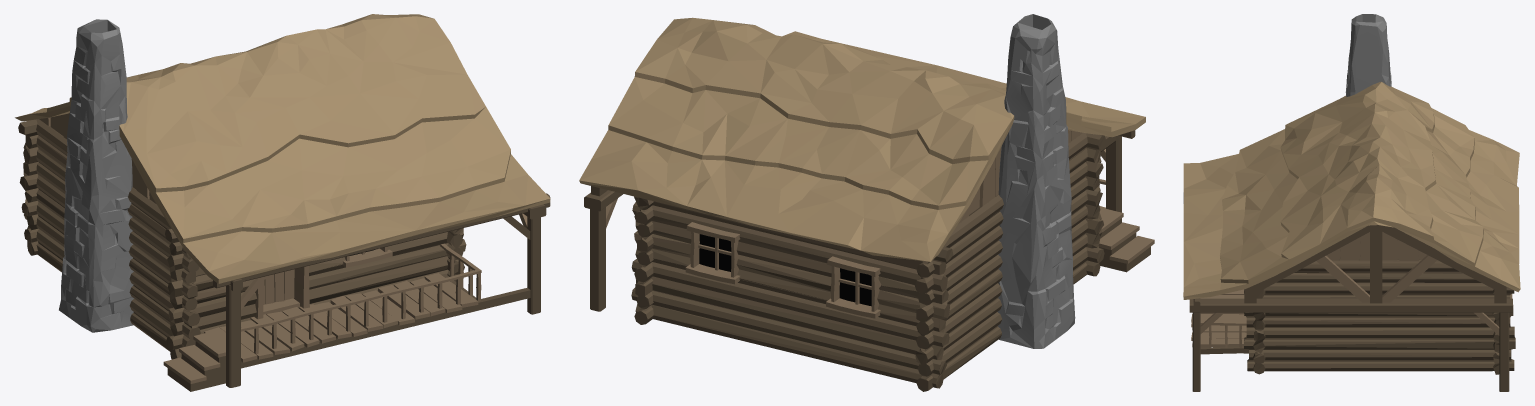
The model's file is village_wood_house_e.FBX.
3 renders of one model, left to right at view 1: azimuth 30°, elevation 25°; view 2: azimuth 150°, elevation 25°; view 3: azimuth 270°, elevation 25°, orthographic. The views are drawn at different scales.
Visible parts, largest first — view 1: village_wood_house_e; view 2: village_wood_house_e; view 3: village_wood_house_e.
Part boxes in pixels (x1,y1,x2,y2): village_wood_house_e: (15,14,550,391); village_wood_house_e: (579,14,1154,391); village_wood_house_e: (1183,14,1520,391).
Bounding box in the file's own units: 8.79 × 6.61 × 8.44.
